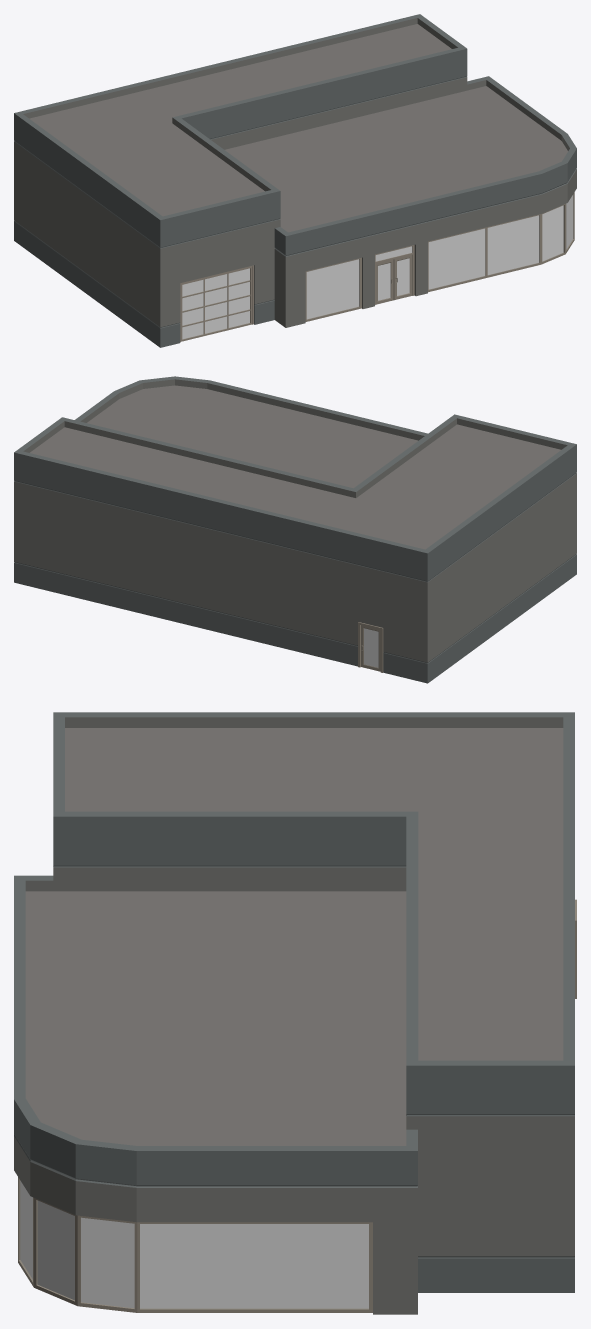
Rendered from SM_Bldg_City_Showroom.fbx.
The picture shows the model from 3 angles, top to bottom: view 1: azimuth 30°, elevation 25°; view 2: azimuth 150°, elevation 25°; view 3: azimuth 270°, elevation 25°; orthographic projection. The views are drawn at different scales.
Visible parts, largest first — view 1: SM_Bldg_City_Showroom, SM_Bldg_City_Showroom_Glass; view 2: SM_Bldg_City_Showroom; view 3: SM_Bldg_City_Showroom, SM_Bldg_City_Showroom_Glass.
Part boxes in pixels (x1,y1,x2,y2): SM_Bldg_City_Showroom: (14,14,576,347); SM_Bldg_City_Showroom_Glass: (306,194,573,319); SM_Bldg_City_Showroom: (14,376,576,683); SM_Bldg_City_Showroom: (14,712,576,1314); SM_Bldg_City_Showroom_Glass: (20,1181,368,1308).
Size of the model in its own units: 2260 by 640 by 1435.
